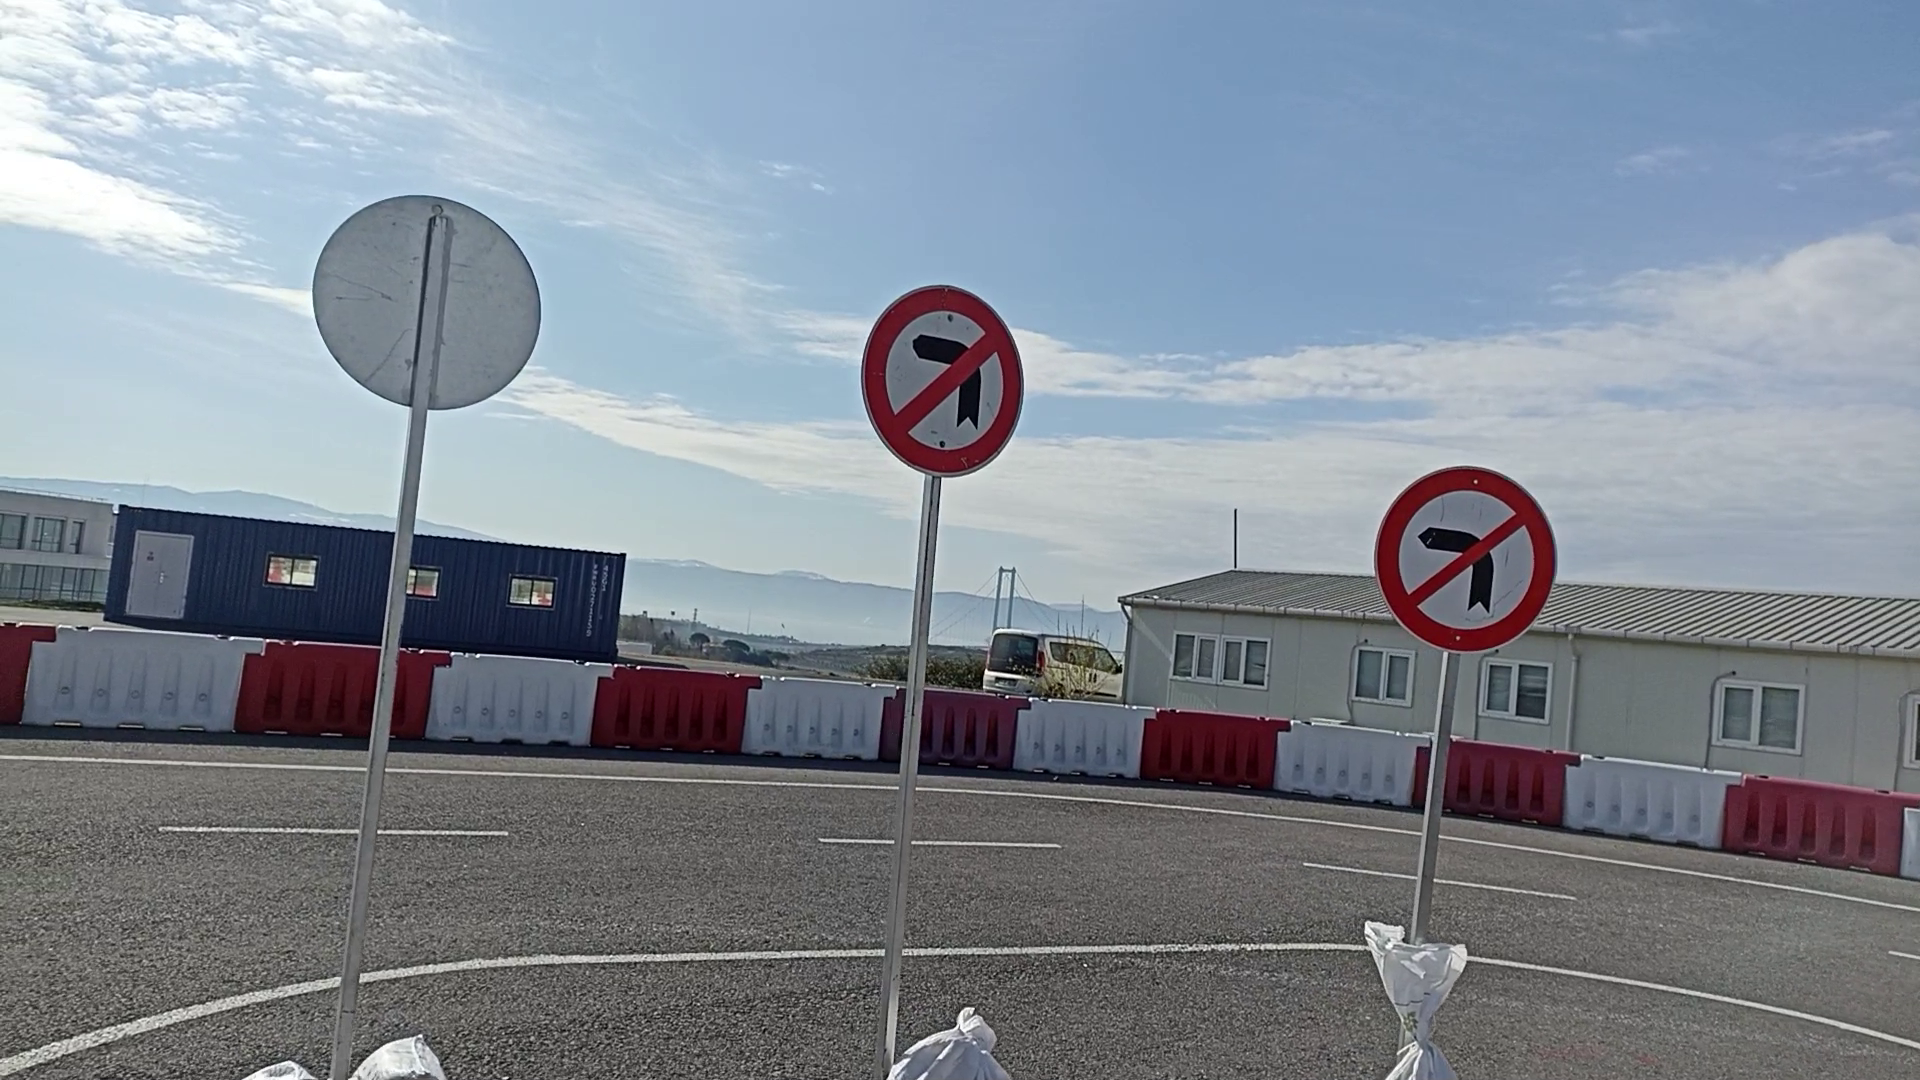noleft: (1371, 464, 1559, 658), (858, 284, 1029, 480)
